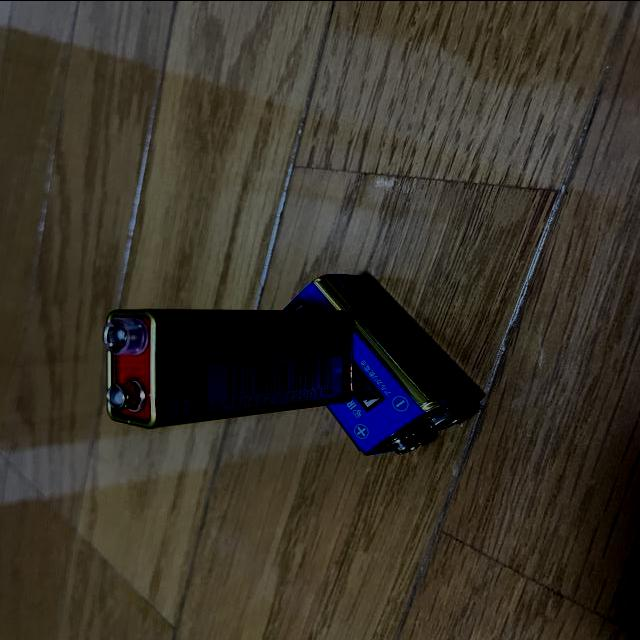9V: (278, 272, 483, 454), (102, 305, 355, 427)
